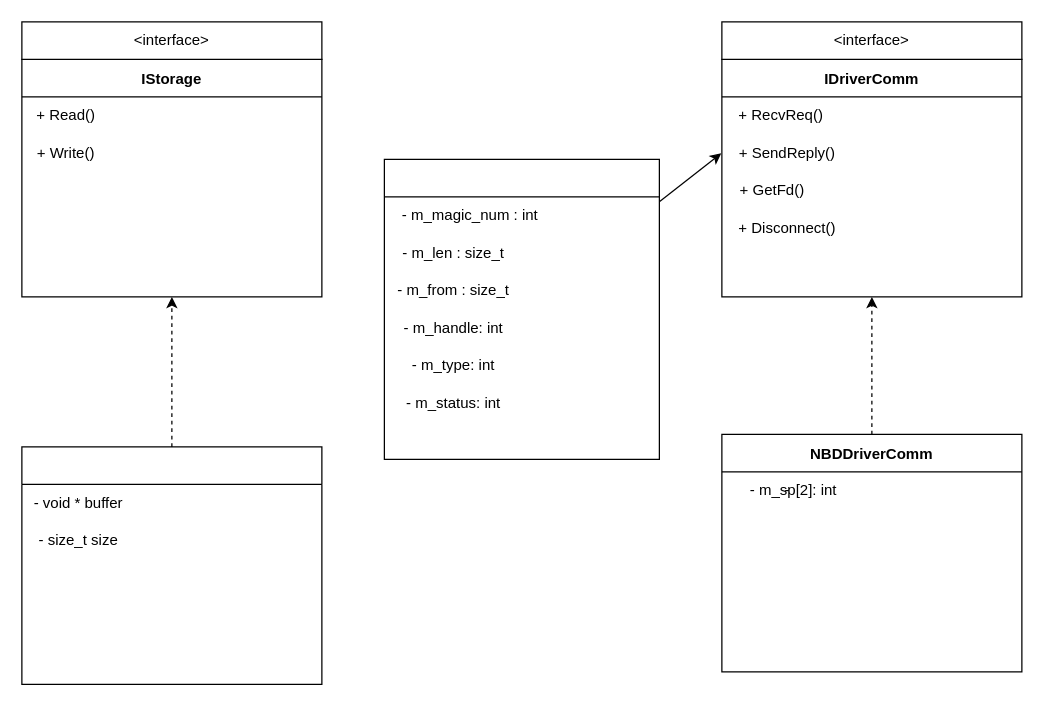
This 1044x706 diagram has some shape labels left out. Here are the shapes that lost their labels. From the top down, the box of each, then its label:
(383, 158, 659, 459): DriverData
(21, 446, 322, 684): RamStorage
